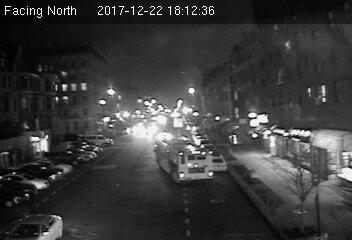bus: (154, 137, 214, 184)
car: (209, 153, 228, 171)
